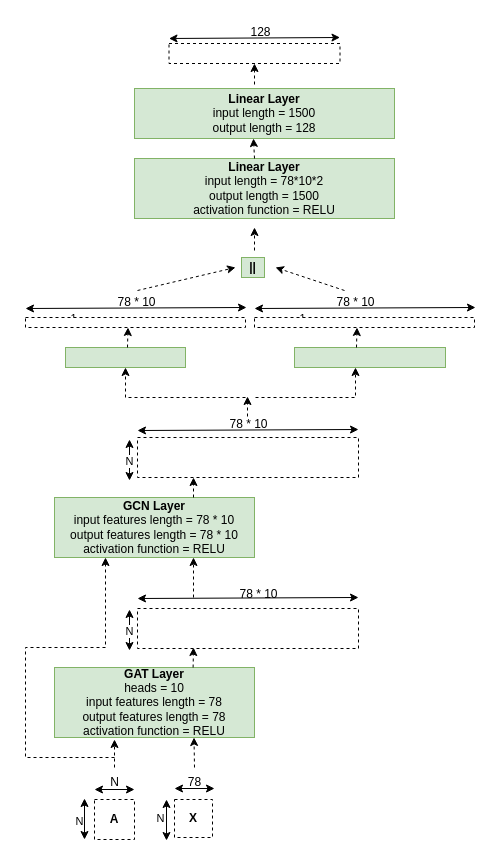
Some shapes in this 502 by 867 pixel diagram are drawn without their labels. The centre of each missing label's shape, as x and y in pixels:
Global Max Pooling: point 125,357
Global Mean Pooling: point 370,357
output: point 254,53
